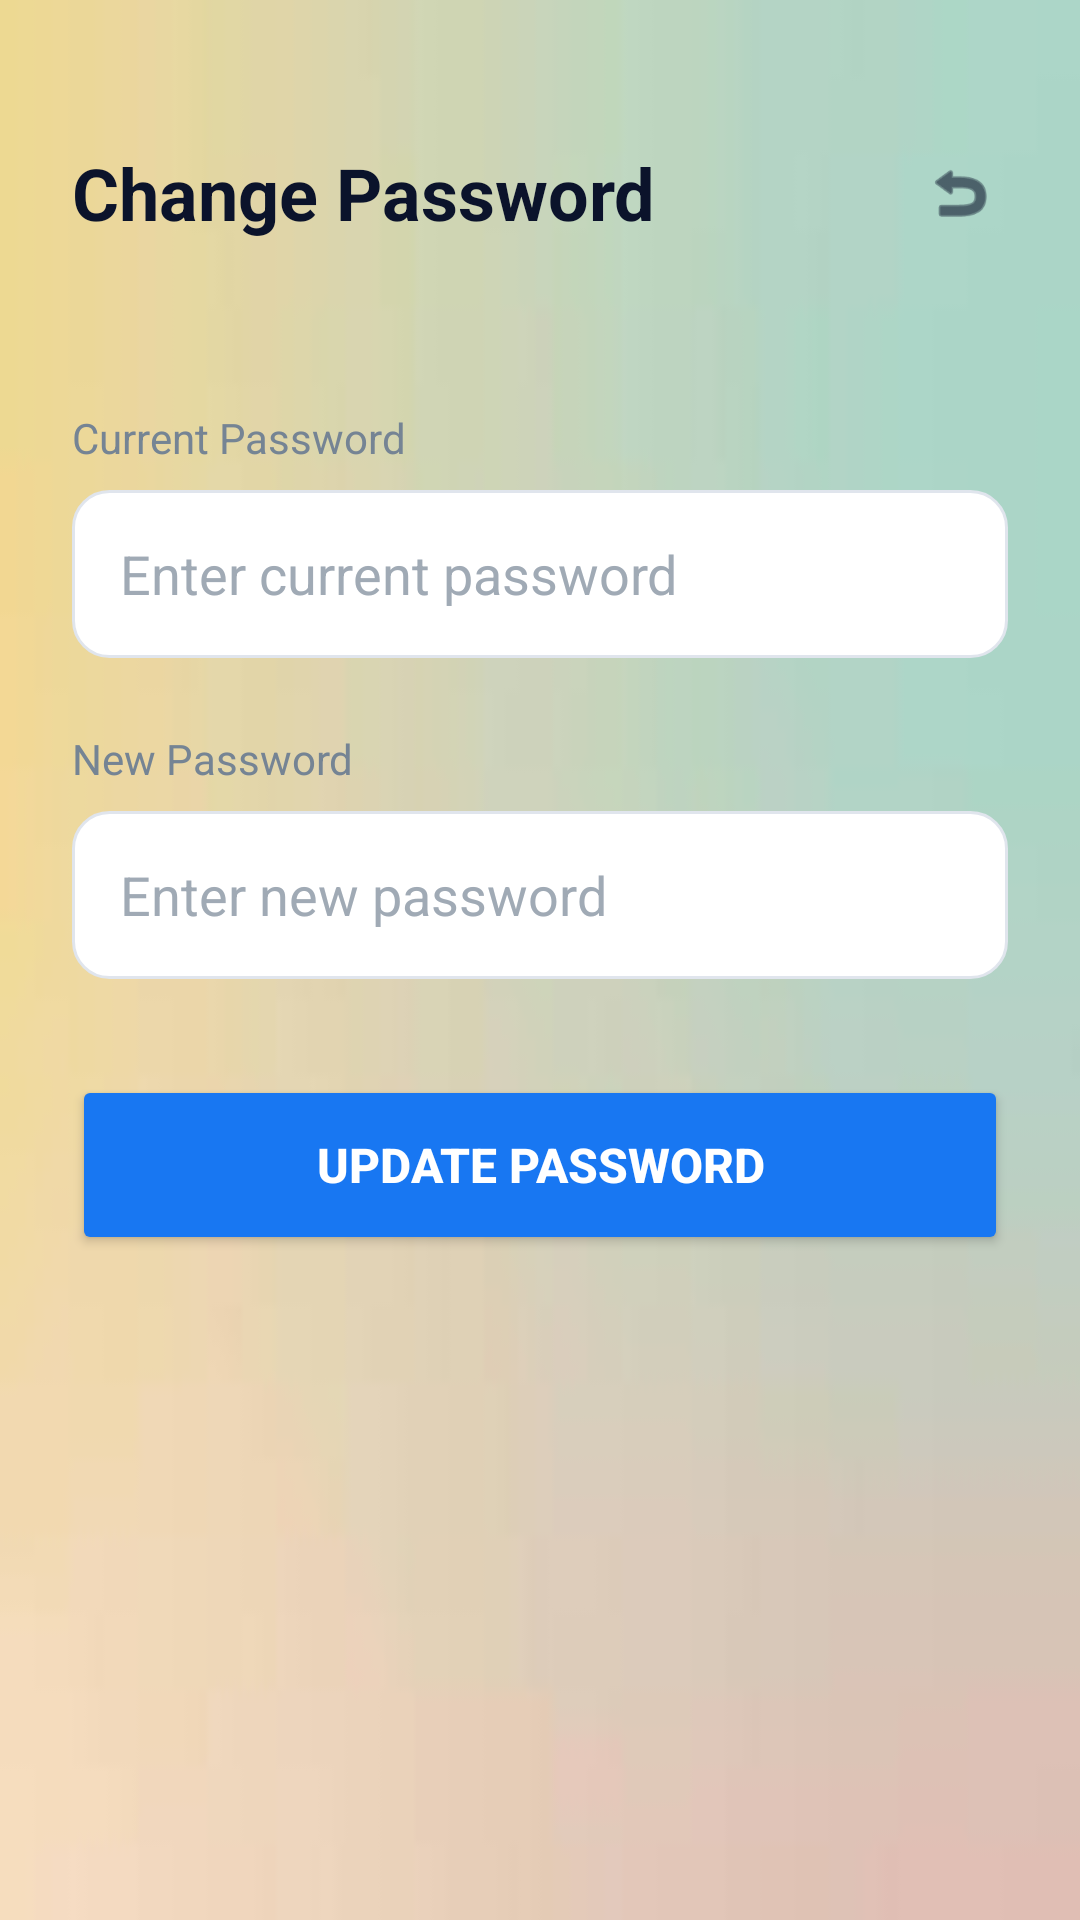

Screen size 1080w x 1920h. Icon name, then its box in pixels as bbox=(x1, y1, x2, y2):
revert: bbox=(935, 170, 987, 217)
